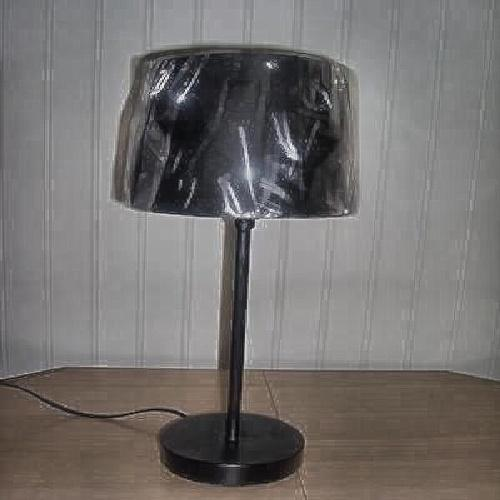lamp: (103, 40, 368, 484)
